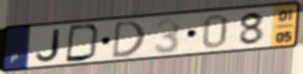0: (200, 13, 230, 51)
3: (153, 16, 183, 55)
8: (237, 11, 267, 46)
D: (109, 18, 147, 60), (64, 23, 103, 63)
J: (34, 28, 61, 63)
